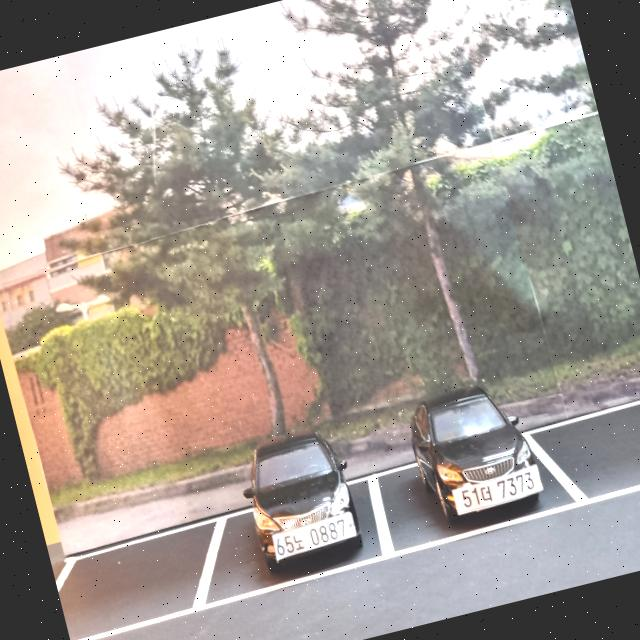empty: (48, 515, 233, 640), (549, 391, 640, 508)
occupied: (355, 360, 572, 556), (190, 413, 393, 606)
